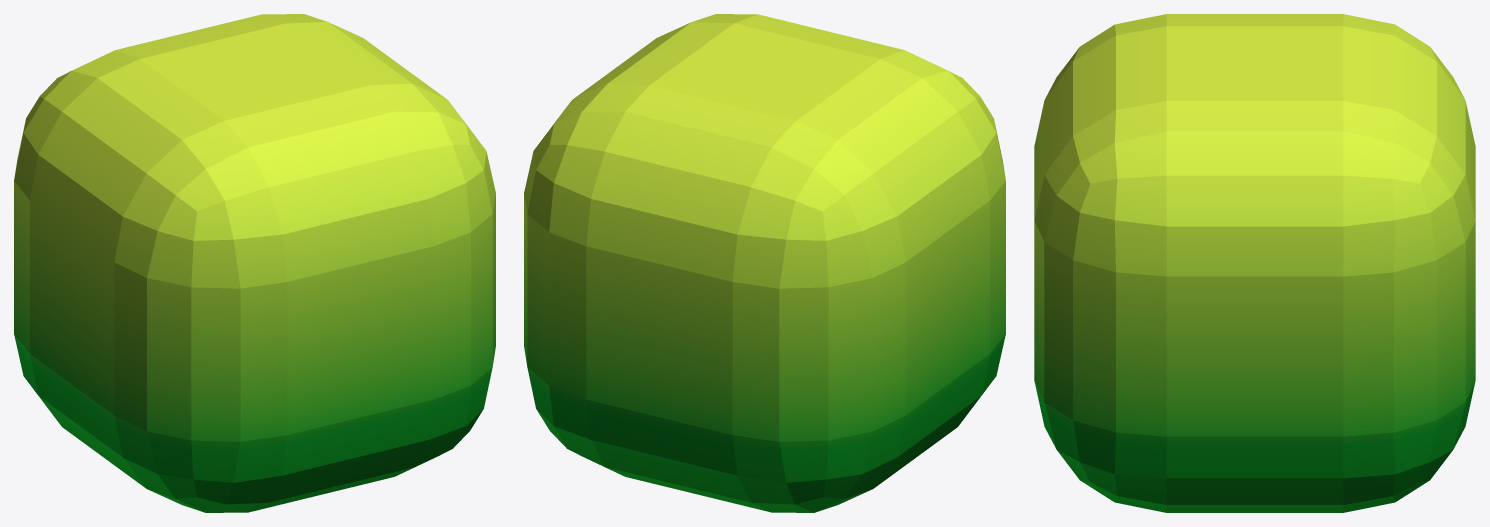
The model's file is ezBoxy.glb.
3 views of the same model, side by side, from view 1: azimuth 30°, elevation 25°; view 2: azimuth 150°, elevation 25°; view 3: azimuth 270°, elevation 25° (orthographic). The views are drawn at different scales.
Visible parts, largest first — view 1: Cube.003; view 2: Cube.003; view 3: Cube.003.
Boxes of the visible parts, box(x1,y1,x2,y2) form: Cube.003: box(14, 14, 495, 512); Cube.003: box(524, 14, 1005, 512); Cube.003: box(1034, 14, 1475, 512).
Size of the model in its own units: 1 by 1 by 1.
Materials: 1 (1 with a texture image).
